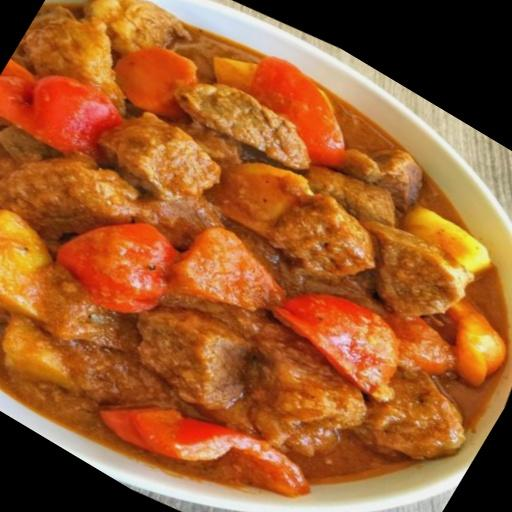pork caldereta: (0, 6, 510, 492)
